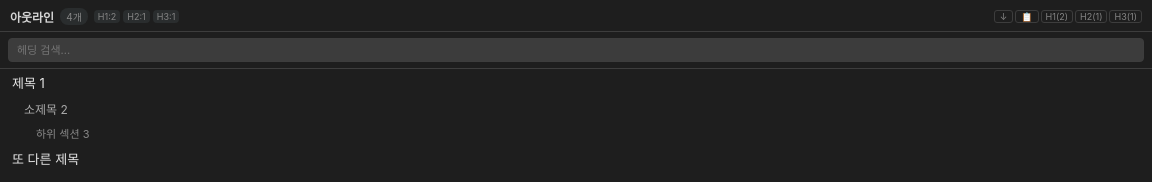
Test: OutlinePanel › 검색어 입력 시 일치하는 헤딩만 표시된다
This screenshot has width=1152, height=182.
In the field with placeholder "헤딩 검색...": [576, 50] box [8,38,1144,62], type "제목 1"
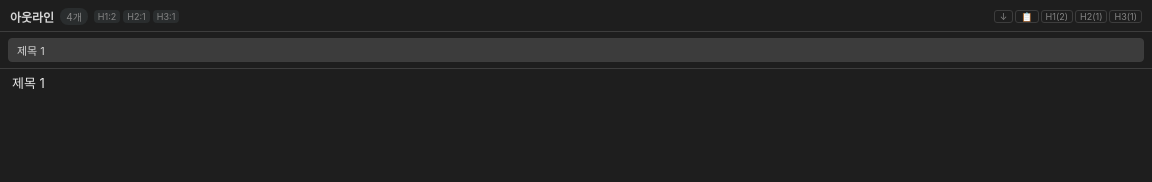
Check: the text "제목 1" is shown, box [12,75,45,91]
Check: the text "소제목 2" is gone
